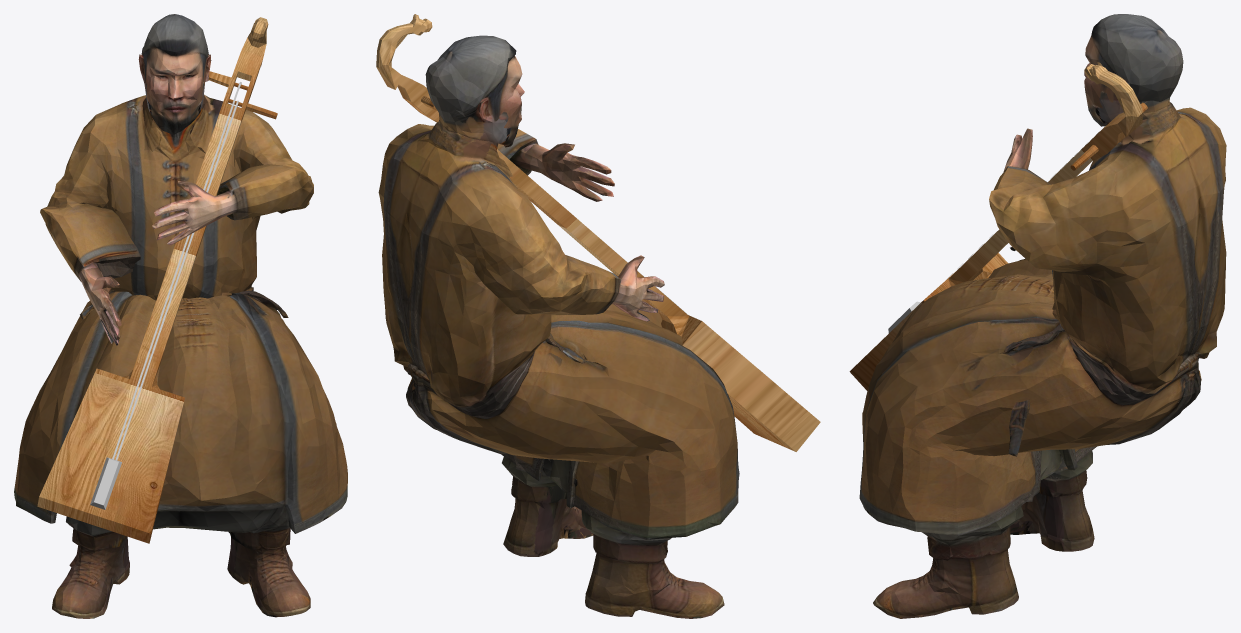
The model's file is Guitarra.fbx.
The picture shows the model from 3 angles, left to right: view 1: azimuth 30°, elevation 25°; view 2: azimuth 150°, elevation 25°; view 3: azimuth 270°, elevation 25°; orthographic projection. The views are drawn at different scales.
Visible parts, largest first — view 1: temp, Guitarra; view 2: temp, Guitarra; view 3: temp, Guitarra.
Part boxes in pixels (left/top/right/bottom): temp: left=14, top=14, right=347, bottom=618; Guitarra: left=37, top=17, right=277, bottom=543; temp: left=378, top=35, right=739, bottom=618; Guitarra: left=376, top=14, right=820, bottom=451; temp: left=859, top=14, right=1226, bottom=618; Guitarra: left=849, top=62, right=1147, bottom=390.
Bounding box in the file's own units: 104 × 163 × 95.24.
